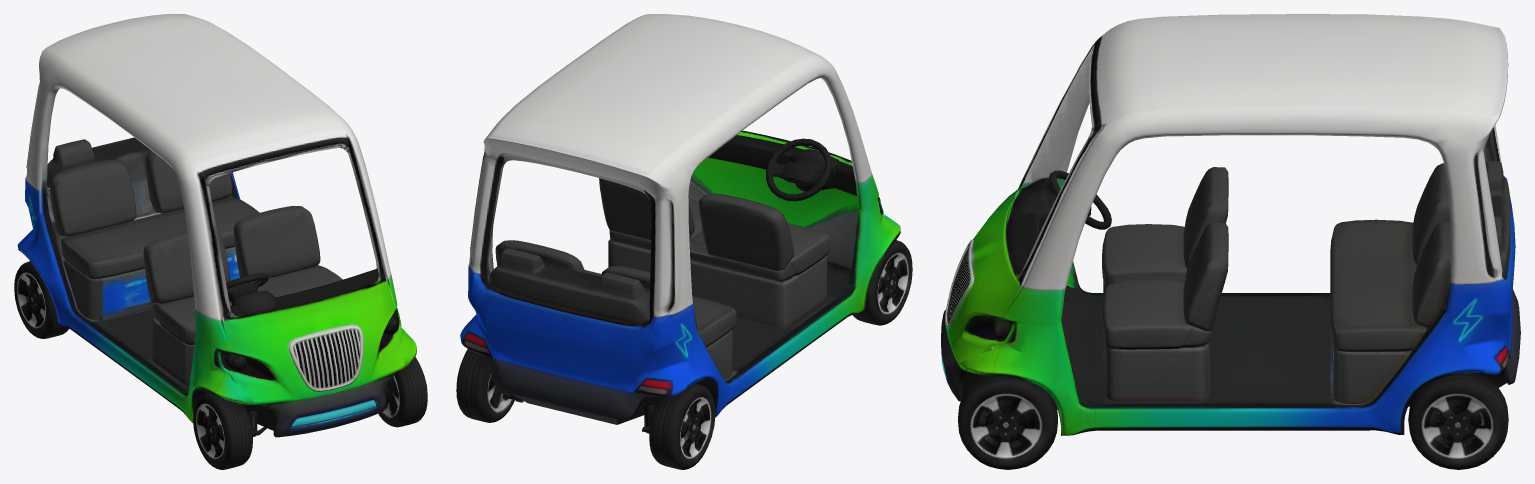
File: electric-car.glb
3 views of the same model, side by side, from view 1: azimuth 30°, elevation 25°; view 2: azimuth 150°, elevation 25°; view 3: azimuth 270°, elevation 25° (orthographic). The views are drawn at different scales.
Visible parts, largest first — view 1: f17144c7_4538_4f2c_83bf_83ea7f6a0bf2; view 2: f17144c7_4538_4f2c_83bf_83ea7f6a0bf2; view 3: f17144c7_4538_4f2c_83bf_83ea7f6a0bf2.
Part boxes in pixels (x1=…): f17144c7_4538_4f2c_83bf_83ea7f6a0bf2: x1=14, y1=14, x2=427, y2=469; f17144c7_4538_4f2c_83bf_83ea7f6a0bf2: x1=456, y1=14, x2=912, y2=469; f17144c7_4538_4f2c_83bf_83ea7f6a0bf2: x1=941, y1=14, x2=1520, y2=469.
Bounding box in the file's own units: 0.522 × 0.6899 × 0.9995.
Materials: 1 (1 with a texture image).
